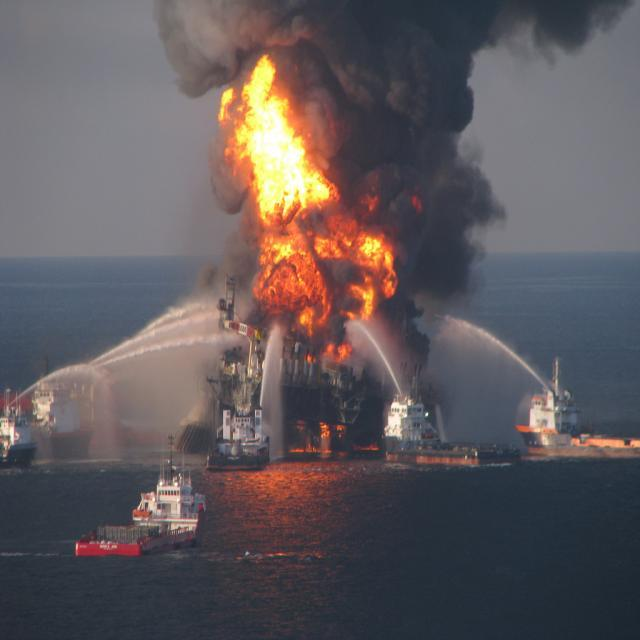Fire: (248, 113, 312, 244), (268, 253, 332, 320)
Smoke: (344, 15, 455, 170), (162, 6, 240, 84)
